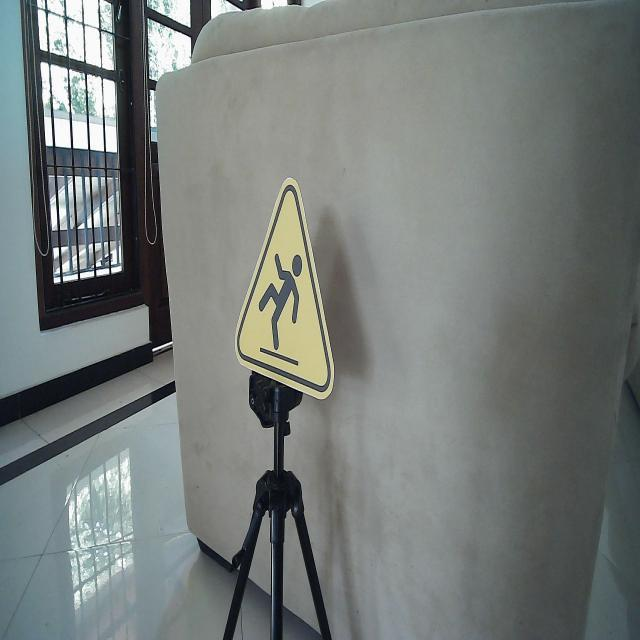slippery_sign: (233, 175, 337, 402)
